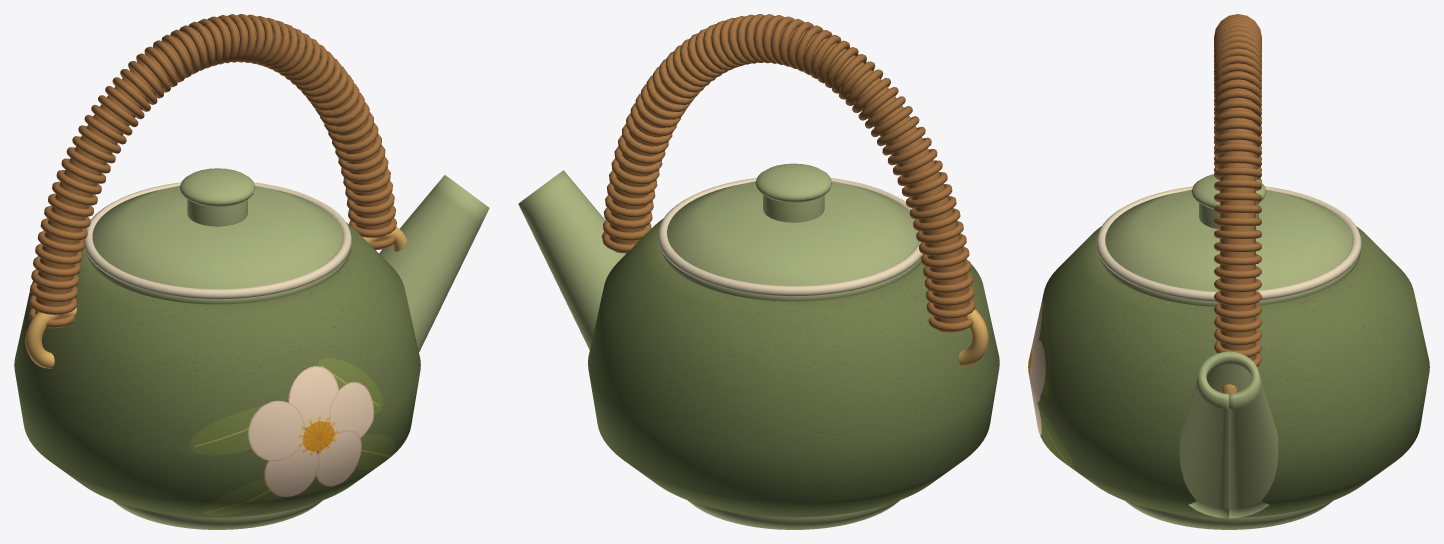
Rendered from teapot.glb.
3 views of the same model, side by side, from view 1: azimuth 30°, elevation 25°; view 2: azimuth 150°, elevation 25°; view 3: azimuth 270°, elevation 25° (orthographic). The views are drawn at different scales.
Parts seen in each view (by area): view 1: Teapot hand-painted body, Teapot lid, Teapot hollow pouring spout, Teapot bamboo carrying arch, Teapot lid rim, Teapot lid knob cap, Teapot foot, Teapot lid knob, Handle attachment; view 2: Teapot hand-painted body, Teapot lid, Teapot hollow pouring spout, Teapot bamboo carrying arch, Teapot lid rim, Teapot lid knob cap, Teapot foot, Teapot lid knob, Handle attachment; view 3: Teapot hand-painted body, Teapot lid, Teapot hollow pouring spout, Teapot lid rim, Teapot bamboo carrying arch, Teapot foot, Teapot lid knob cap.
Part boxes in pixels (<box>): Teapot hand-painted body: <box>14,222,420,517</box>; Teapot lid: <box>84,185,350,304</box>; Teapot hollow pouring spout: <box>379,175,489,352</box>; Teapot bamboo carrying arch: <box>35,24,389,328</box>; Teapot lid rim: <box>83,182,351,299</box>; Teapot lid knob cap: <box>179,168,255,206</box>; Teapot foot: <box>113,500,322,529</box>; Teapot lid knob: <box>187,199,247,226</box>; Handle attachment: <box>25,307,76,368</box>; Teapot hand-painted body: <box>588,218,999,517</box>; Teapot lid: <box>659,181,921,301</box>; Teapot hollow pouring spout: <box>518,170,625,349</box>; Teapot bamboo carrying arch: <box>609,24,968,332</box>; Teapot lid rim: <box>658,178,923,296</box>; Teapot lid knob cap: <box>755,163,832,202</box>; Teapot foot: <box>687,500,899,529</box>; Teapot lid knob: <box>763,195,824,222</box>; Handle attachment: <box>959,309,988,366</box>; Teapot hand-painted body: <box>1028,226,1429,517</box>; Teapot lid: <box>1097,189,1360,306</box>; Teapot hollow pouring spout: <box>1179,351,1278,518</box>; Teapot lid rim: <box>1096,186,1361,301</box>; Teapot bamboo carrying arch: <box>1220,71,1255,360</box>; Teapot foot: <box>1125,501,1332,529</box>; Teapot lid knob cap: <box>1191,174,1266,208</box>.
Bounding box in the file's own units: 3.48 × 3.34 × 2.68.
Materials: 5 (1 with a texture image).
